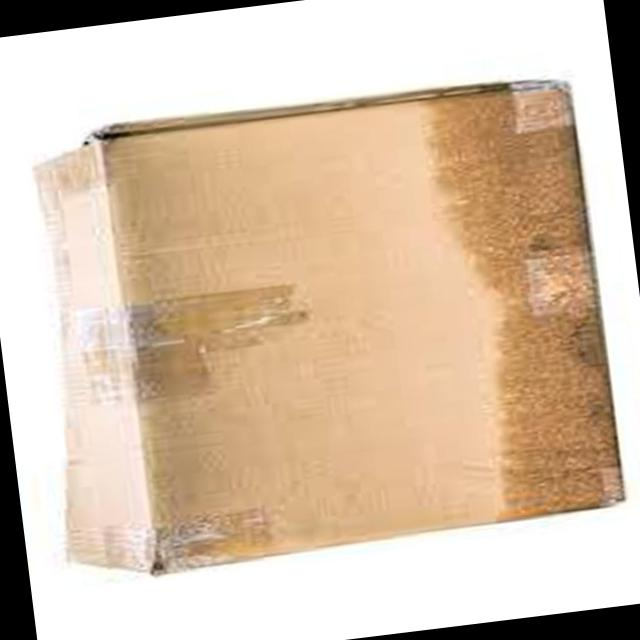box: (32, 79, 628, 576)
contamination: (420, 80, 625, 524)
